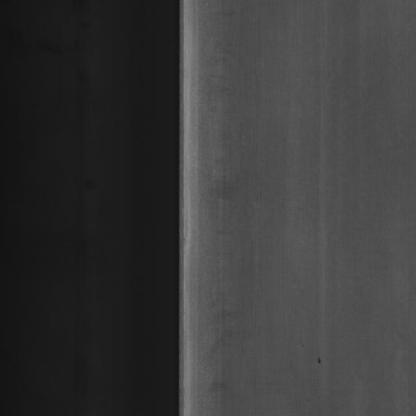inclusion: (311, 343, 327, 374)
